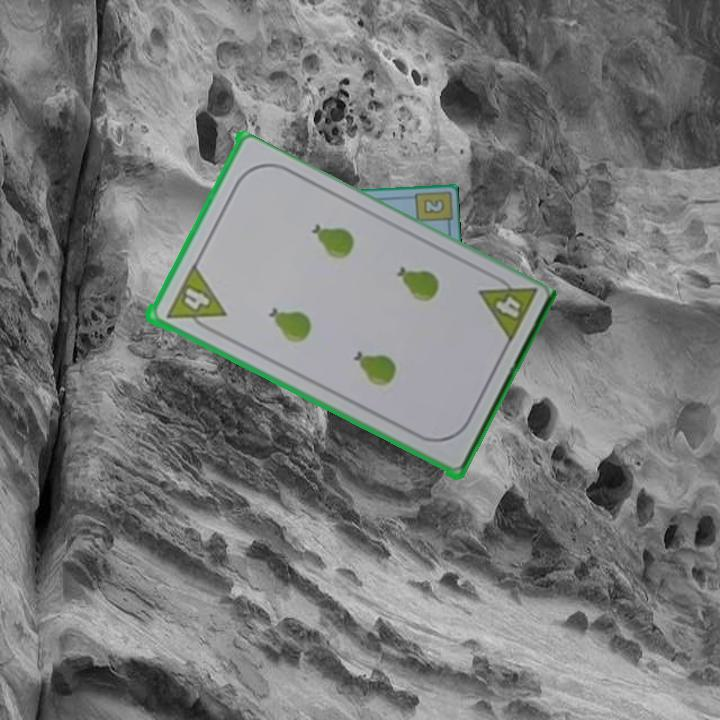2b: (420, 196, 446, 217)
4p: (474, 268, 540, 348), (162, 262, 228, 337)
